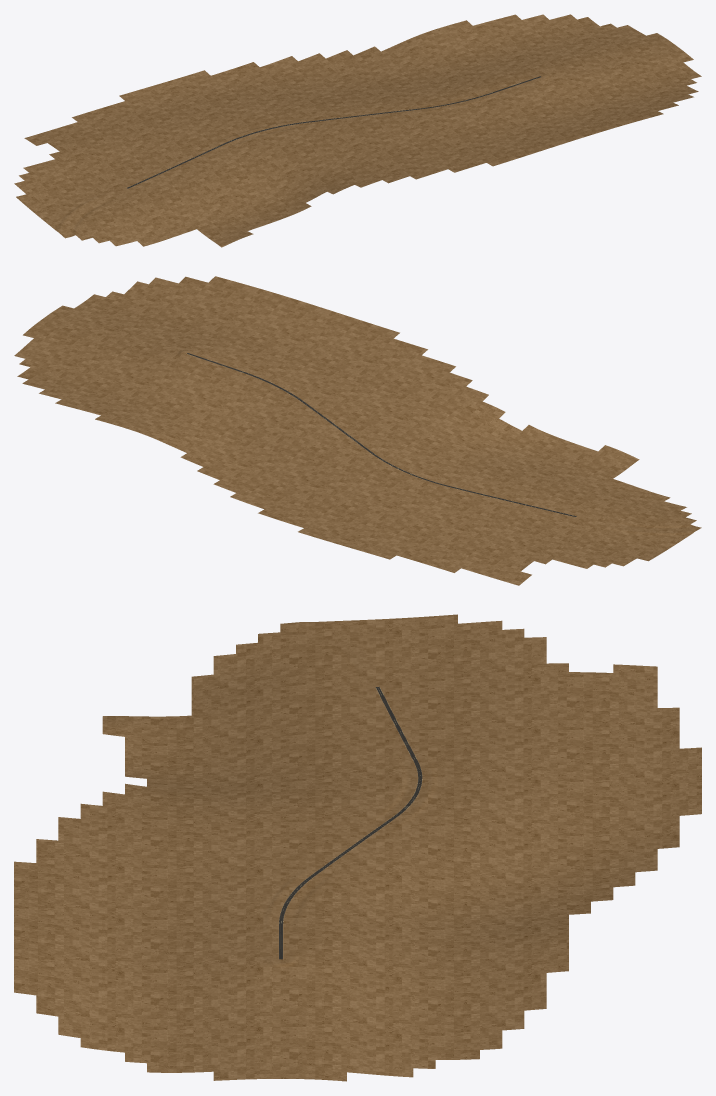
The picture shows the model from 3 angles, top to bottom: view 1: azimuth 30°, elevation 25°; view 2: azimuth 150°, elevation 25°; view 3: azimuth 270°, elevation 25°; orthographic projection. The views are drawn at different scales.
Parts seen in each view (by area): view 1: S08_TERRAIN_LOD1_WEB_EXPORT, S08_ROAD_ASPHALT_LOD1_WEB_EXPORT; view 2: S08_TERRAIN_LOD1_WEB_EXPORT, S08_ROAD_ASPHALT_LOD1_WEB_EXPORT; view 3: S08_TERRAIN_LOD1_WEB_EXPORT, S08_ROAD_ASPHALT_LOD1_WEB_EXPORT.
Boxes of the visible parts, x1,y1,x2,y2 form: S08_TERRAIN_LOD1_WEB_EXPORT: (14,14,701,247); S08_ROAD_ASPHALT_LOD1_WEB_EXPORT: (127,76,540,188); S08_TERRAIN_LOD1_WEB_EXPORT: (14,276,701,585); S08_ROAD_ASPHALT_LOD1_WEB_EXPORT: (187,353,576,516); S08_TERRAIN_LOD1_WEB_EXPORT: (14,614,701,1081); S08_ROAD_ASPHALT_LOD1_WEB_EXPORT: (279,686,422,959).
Bounding box in the file's own units: 2280 × 192 × 1240.
Materials: 6 (6 with a texture image).
